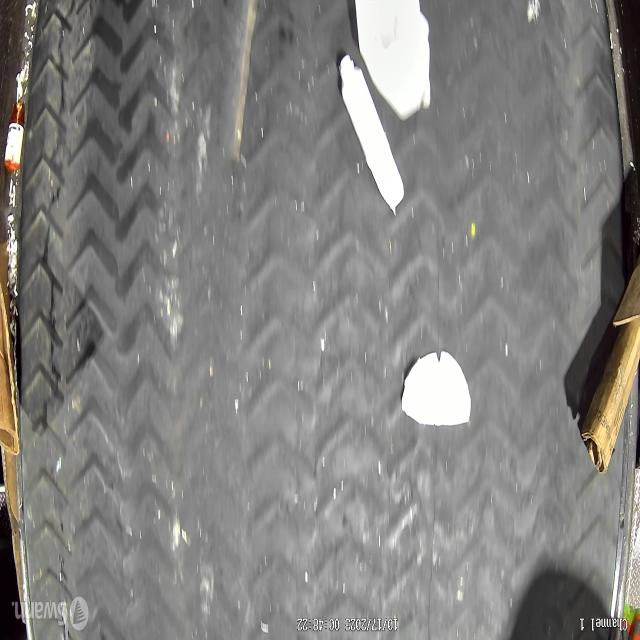milk_jug: (355, 0, 433, 122)
